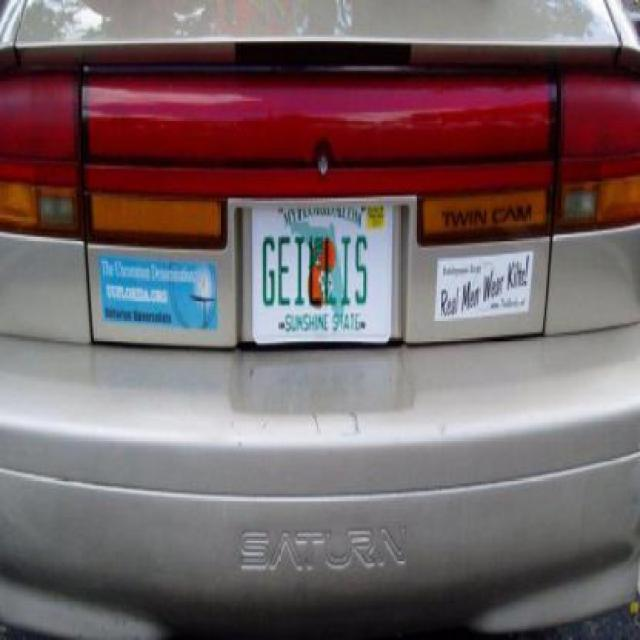License-Plates: (253, 205, 391, 342)
